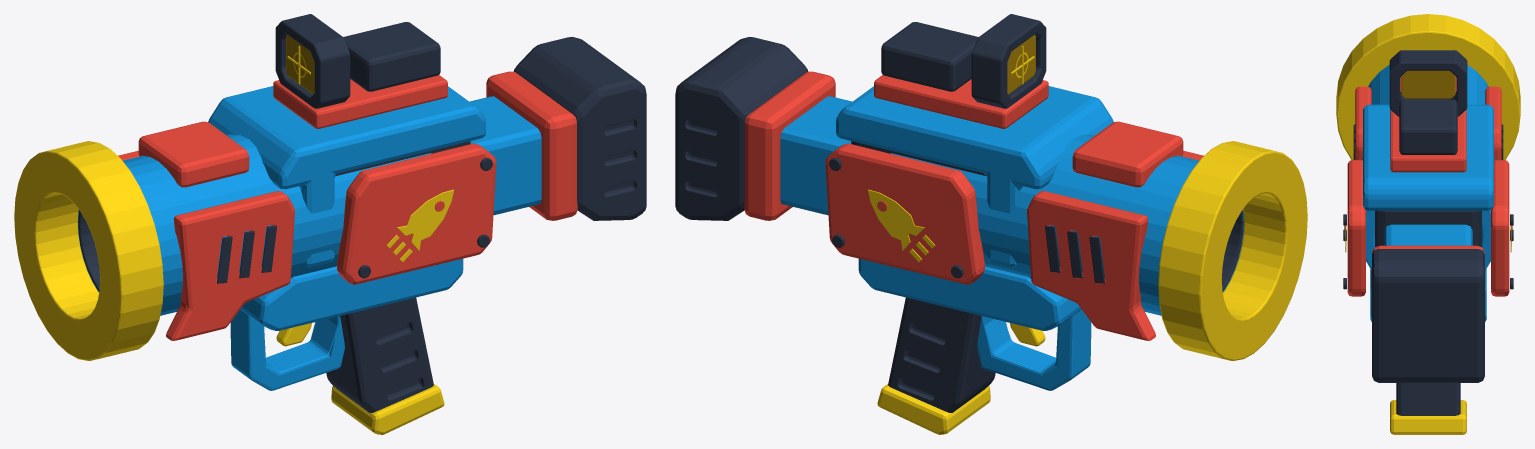
Rendered from RocketLauncher.fbx.
3 renders of one model, left to right at view 1: azimuth 30°, elevation 25°; view 2: azimuth 150°, elevation 25°; view 3: azimuth 270°, elevation 25°, orthographic. The views are drawn at different scales.
Parts seen in each view (by area): view 1: Muzzle_YellowRim, Receiver_TopBlueRail, EmblemArmour_-1, Stock_ShoulderPad, FrontVentArmour_L, Barrel_BlueShell, Grip_Navy, Receiver_LowerBlueRail, Stock_RedCollar, TriggerGuard_Blue, Stock_BlueExtension, Sight_NavyRearHousing (+7 smaller); view 2: Muzzle_YellowRim, Receiver_TopBlueRail, EmblemArmour_1, Stock_ShoulderPad, FrontVentArmour_R, Barrel_BlueShell, Grip_Navy, Receiver_LowerBlueRail, Stock_RedCollar, TriggerGuard_Blue, Stock_BlueExtension, Sight_NavyRearHousing (+7 smaller); view 3: Stock_ShoulderPad, Muzzle_YellowRim, Receiver_TopBlueRail, Sight_NavyRearHousing, Sight_NavyApertureFrame, EmblemArmour_-1, EmblemArmour_1, Barrel_BlueShell, Sight_RedMount, Grip_Navy, Receiver_NavyCore, Stock_BlueExtension (+6 smaller).
Part boxes in pixels (bbox=[...]): Muzzle_YellowRim: bbox=[14, 141, 163, 360]; Receiver_TopBlueRail: bbox=[208, 86, 485, 267]; EmblemArmour_-1: bbox=[337, 143, 496, 284]; Stock_ShoulderPad: bbox=[513, 37, 646, 220]; FrontVentArmour_L: bbox=[166, 191, 294, 340]; Barrel_BlueShell: bbox=[77, 134, 431, 315]; Grip_Navy: bbox=[326, 297, 433, 412]; Receiver_LowerBlueRail: bbox=[240, 258, 463, 330]; Stock_RedCollar: bbox=[486, 71, 577, 220]; TriggerGuard_Blue: bbox=[230, 309, 344, 390]; Stock_BlueExtension: bbox=[470, 96, 541, 215]; Sight_NavyRearHousing: bbox=[343, 22, 440, 91]; Muzzle_YellowRim: bbox=[1158, 141, 1307, 360]; Receiver_TopBlueRail: bbox=[836, 86, 1113, 267]; EmblemArmour_1: bbox=[825, 143, 984, 284]; Stock_ShoulderPad: bbox=[675, 37, 808, 220]; FrontVentArmour_R: bbox=[1027, 191, 1155, 340]; Barrel_BlueShell: bbox=[890, 134, 1244, 315]; Grip_Navy: bbox=[888, 297, 995, 412]; Receiver_LowerBlueRail: bbox=[858, 258, 1081, 330]; Stock_RedCollar: bbox=[744, 71, 835, 220]; TriggerGuard_Blue: bbox=[977, 309, 1091, 390]; Stock_BlueExtension: bbox=[780, 96, 851, 215]; Sight_NavyRearHousing: bbox=[881, 22, 978, 91]; Stock_ShoulderPad: bbox=[1372, 249, 1484, 382]; Muzzle_YellowRim: bbox=[1336, 14, 1520, 159]; Receiver_TopBlueRail: bbox=[1363, 104, 1493, 210]; Sight_NavyRearHousing: bbox=[1399, 99, 1457, 154]; Sight_NavyApertureFrame: bbox=[1389, 50, 1467, 116]; EmblemArmour_-1: bbox=[1347, 160, 1365, 296]; EmblemArmour_1: bbox=[1491, 160, 1509, 296]; Barrel_BlueShell: bbox=[1362, 64, 1494, 270]; Sight_RedMount: bbox=[1390, 109, 1466, 172]; Grip_Navy: bbox=[1396, 383, 1460, 415]; Receiver_NavyCore: bbox=[1375, 210, 1481, 246]; Stock_BlueExtension: bbox=[1384, 224, 1472, 245].
Bounding box in the file's own units: 178 × 125 × 60.4.
